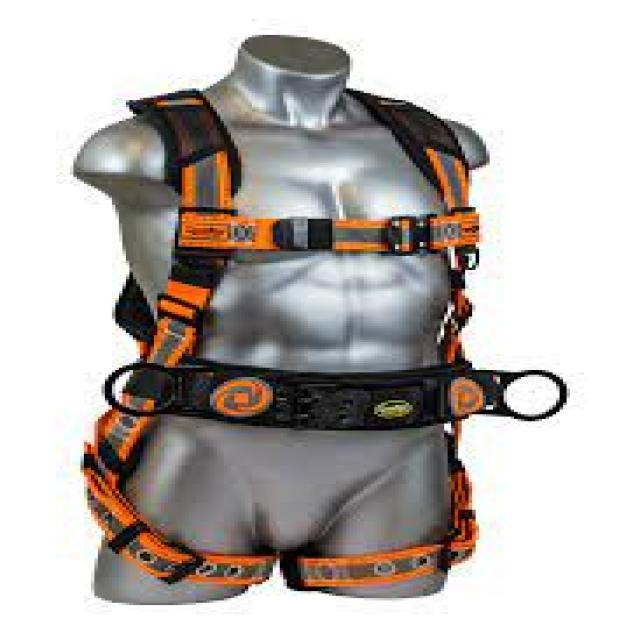Arnes_seguridad: (78, 87, 574, 586)
